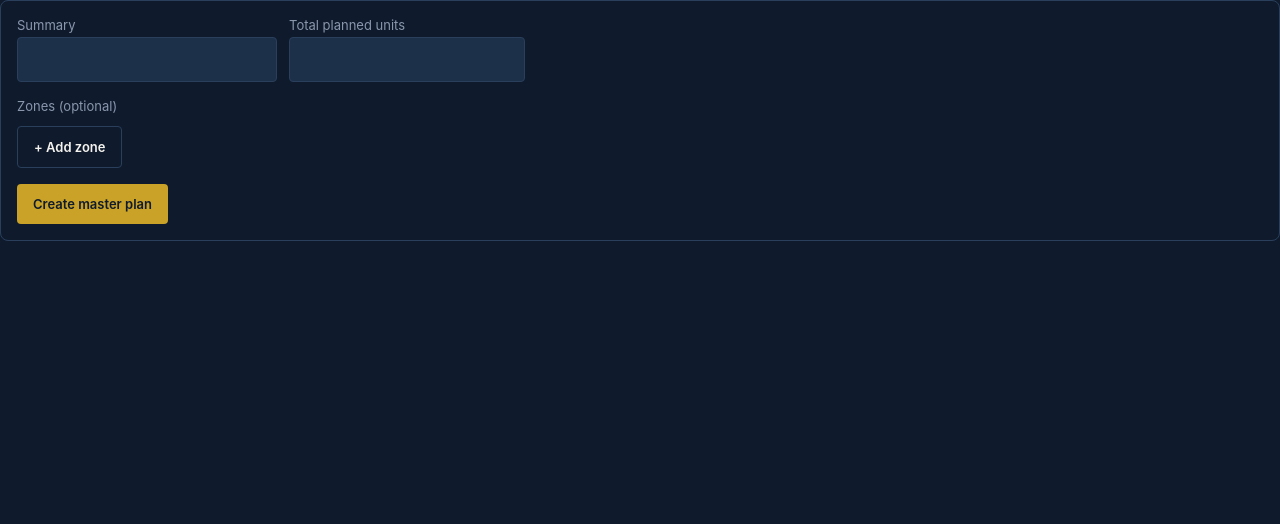
Test: CreateMasterPlanForm — rendering › adds a second zone row on a second click, each independently addressable
Click the button "+ Add zone" at (70, 147), box [17,126,122,168]
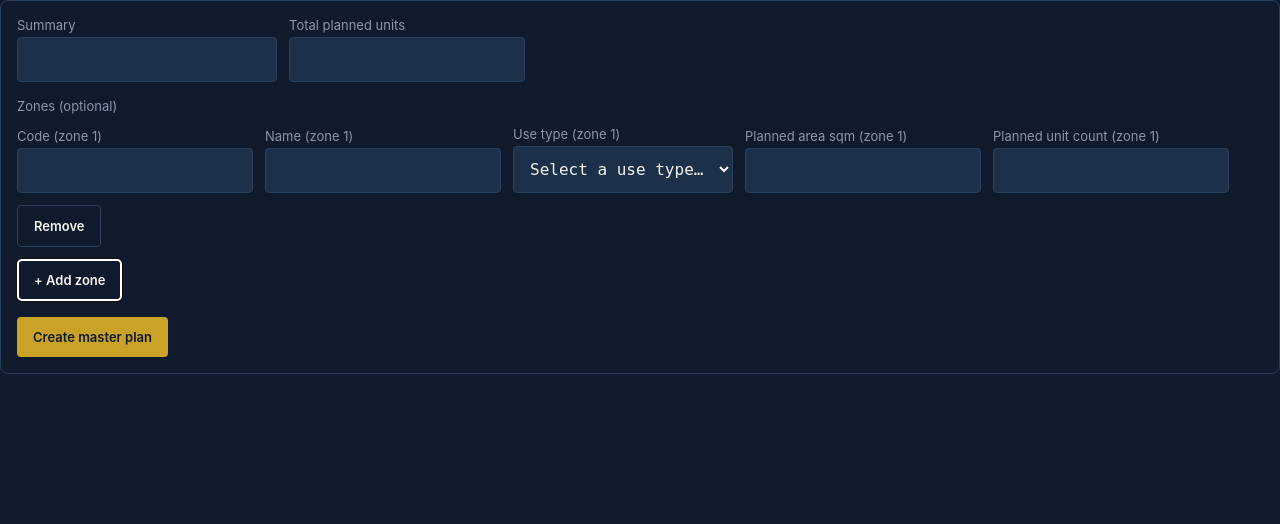
Click the button "+ Add zone" at (70, 280), box [17,259,122,301]
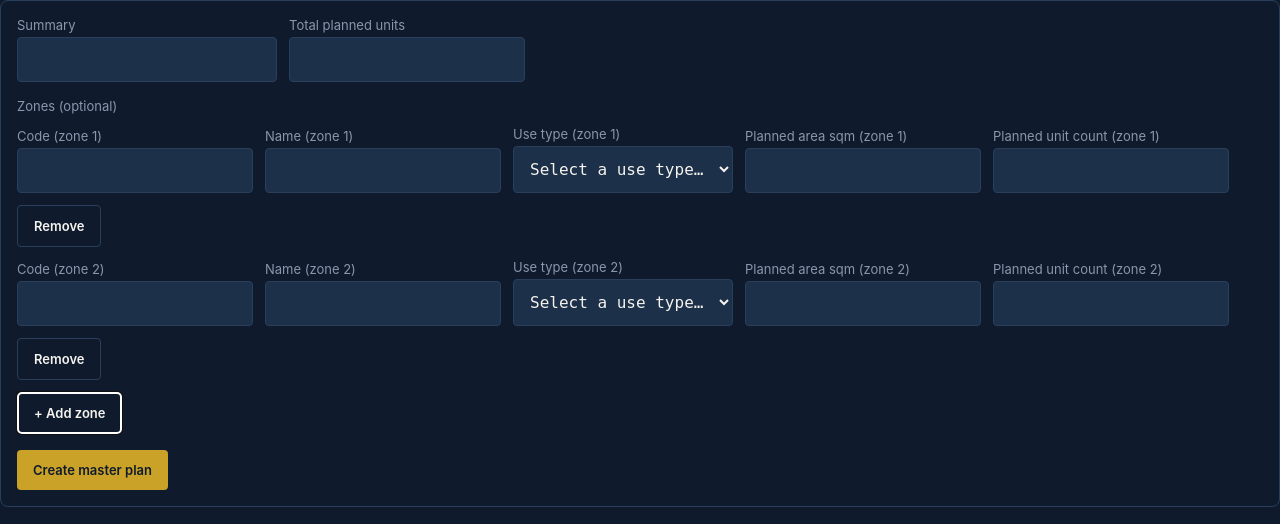
Check: the field labelled "Code (zone 1)" is shown, box [17,148,253,193]
Check: the field labelled "Code (zone 2)" is shown, box [17,281,253,326]
